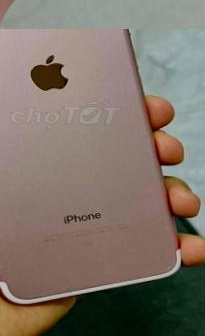scratch: (162, 257, 177, 270), (0, 253, 9, 273), (87, 251, 103, 260), (163, 224, 175, 233), (29, 228, 41, 236)
